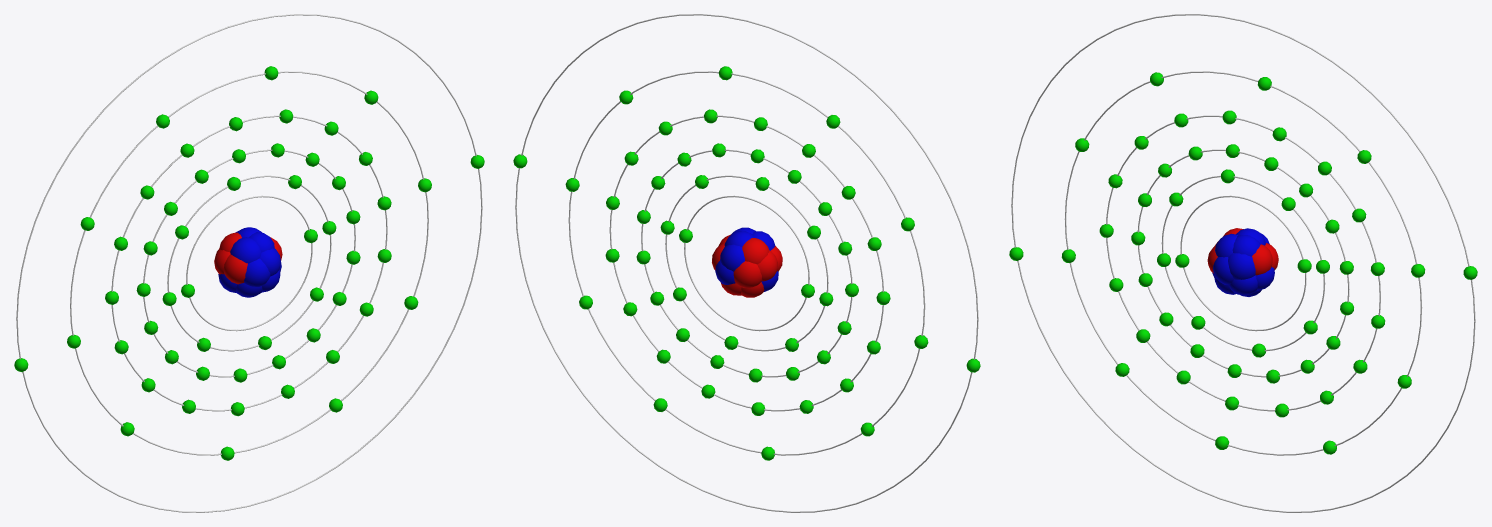
The model's file is MercuryElectronStructure_01.fbx.
3 renders of one model, left to right at view 1: azimuth 30°, elevation 25°; view 2: azimuth 150°, elevation 25°; view 3: azimuth 330°, elevation 25°, orthographic.
Visible parts, largest first — view 1: output0_2_Instance1_7, output0_0_Instance1_7; view 2: output0_2_Instance1_7, output0_0_Instance1_7; view 3: output0_2_Instance1_7, output0_0_Instance1_7.
Boxes of the visible parts, left/top/right/bottom form: output0_2_Instance1_7: left=14, top=14, right=484, bottom=512; output0_0_Instance1_7: left=214, top=227, right=282, bottom=297; output0_2_Instance1_7: left=513, top=14, right=980, bottom=512; output0_0_Instance1_7: left=712, top=227, right=782, bottom=297; output0_2_Instance1_7: left=1009, top=14, right=1477, bottom=512; output0_0_Instance1_7: left=1207, top=228, right=1278, bottom=296.
Size of the model in its own units: 35.83 by 35.64 by 4.61.
